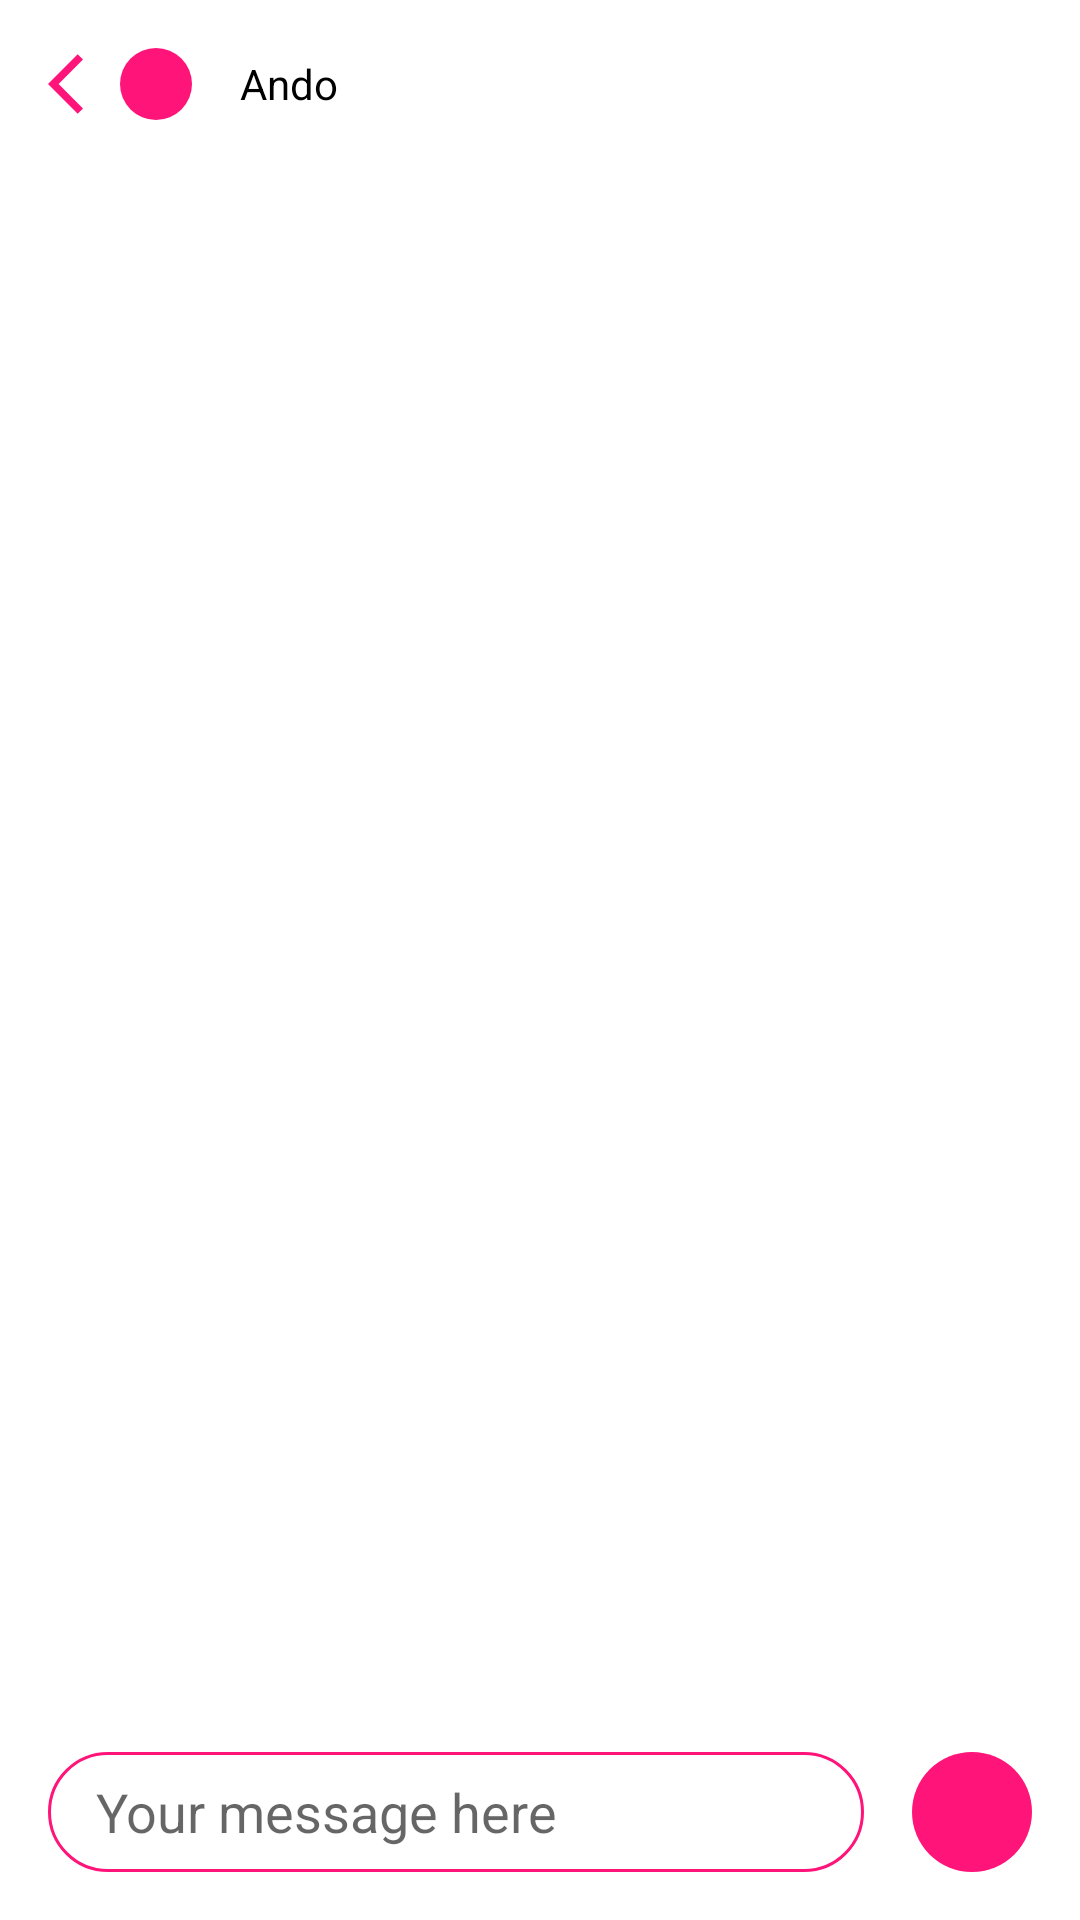

Screen size 1080w x 1920h. Icon name, then its box in pixels as (x1,y1,x2,y2):
Back button: (48,54,83,114)
